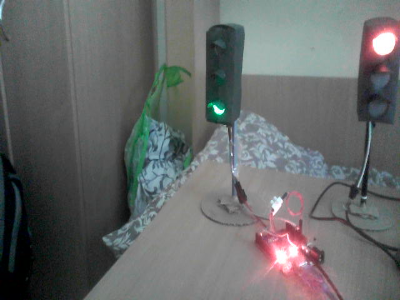trafficlight_green: (206, 29, 238, 123)
trafficlight_red: (358, 20, 400, 123)
